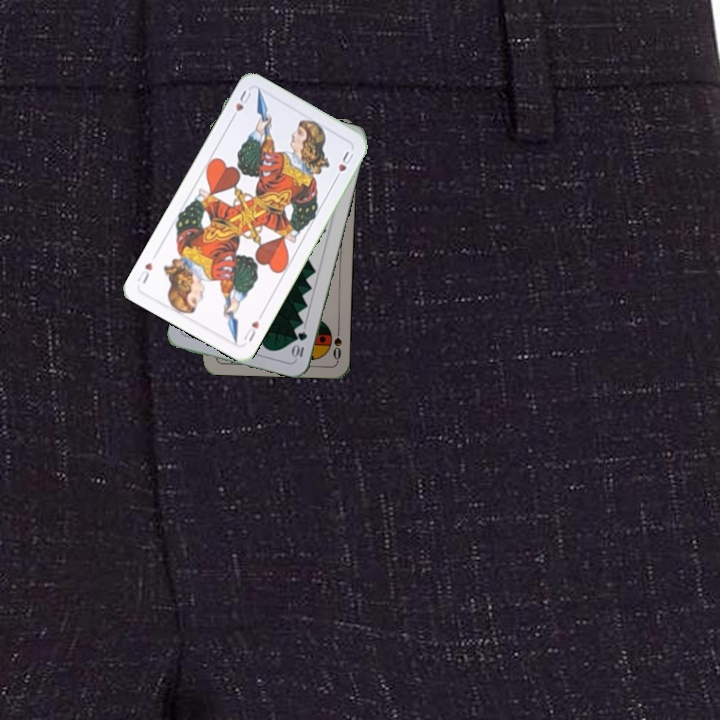G10: (289, 327, 310, 362)
HU: (227, 85, 254, 123), (240, 309, 265, 344)
SO: (329, 322, 344, 362)
